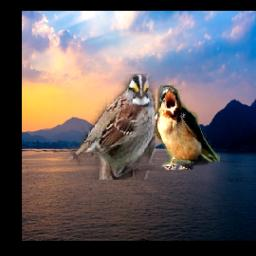Sparrow: (49, 74, 155, 180)
Swallow: (154, 85, 219, 170)
